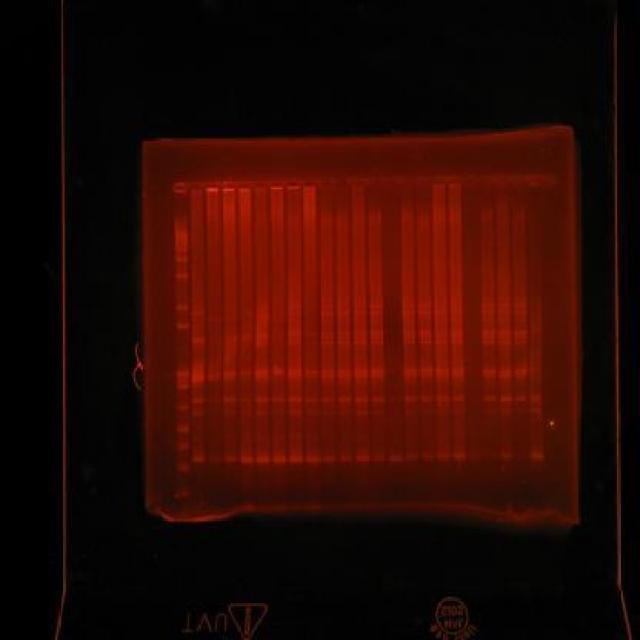B: (528, 451, 544, 462), (354, 454, 372, 463), (288, 454, 304, 464), (305, 454, 321, 464), (371, 452, 387, 462), (322, 454, 338, 463), (256, 454, 270, 464), (338, 454, 353, 463), (529, 394, 542, 404), (272, 456, 288, 464), (370, 397, 386, 405), (388, 454, 404, 462), (420, 453, 436, 461), (416, 302, 432, 310), (238, 409, 254, 417), (271, 408, 287, 416), (500, 452, 514, 461), (192, 455, 206, 463), (224, 455, 238, 463), (240, 456, 254, 464), (306, 432, 320, 440), (370, 409, 384, 417), (528, 415, 542, 423), (404, 452, 418, 460), (404, 394, 418, 402), (514, 394, 528, 402), (452, 452, 468, 459), (436, 452, 452, 459), (436, 408, 450, 416), (420, 408, 434, 416), (468, 452, 483, 459), (529, 407, 542, 415), (484, 452, 498, 459), (254, 336, 270, 342), (254, 397, 270, 403), (336, 340, 352, 346), (336, 330, 352, 336), (353, 374, 369, 380), (353, 368, 369, 374), (352, 330, 368, 336), (368, 303, 384, 309), (368, 310, 384, 316), (370, 374, 386, 380), (480, 308, 496, 314), (480, 302, 496, 308), (481, 368, 497, 374), (482, 396, 498, 402), (482, 408, 498, 414), (513, 330, 529, 336), (403, 410, 419, 416), (418, 367, 434, 373), (432, 302, 448, 308), (321, 410, 336, 416), (337, 374, 352, 380), (338, 410, 353, 416), (354, 410, 369, 416), (481, 334, 496, 340), (434, 330, 449, 336), (253, 369, 270, 374), (192, 336, 206, 342), (192, 346, 206, 352), (208, 398, 222, 404), (208, 456, 222, 462), (222, 410, 236, 416), (256, 410, 270, 416), (238, 374, 252, 380), (239, 334, 253, 340), (239, 338, 253, 344), (272, 397, 286, 403), (288, 410, 302, 416), (288, 396, 302, 402), (288, 368, 302, 374), (287, 341, 301, 347), (287, 330, 301, 336), (288, 310, 302, 316), (288, 304, 302, 310), (304, 408, 318, 414), (304, 330, 318, 336), (304, 334, 318, 340), (303, 310, 317, 316), (224, 344, 238, 350), (320, 374, 334, 380), (320, 340, 334, 346), (320, 330, 334, 336), (336, 310, 350, 316), (338, 397, 352, 403), (353, 310, 367, 316), (352, 303, 366, 309), (370, 368, 384, 374), (370, 340, 384, 346), (528, 327, 542, 333), (528, 366, 542, 372), (403, 368, 417, 374), (402, 330, 416, 336), (402, 304, 416, 310), (499, 408, 513, 414), (499, 396, 513, 402), (498, 340, 512, 346), (498, 302, 512, 308), (514, 368, 528, 374), (514, 340, 528, 346), (513, 310, 527, 316), (513, 302, 527, 308), (449, 308, 463, 314), (452, 408, 466, 414), (436, 394, 450, 400), (420, 396, 434, 402), (434, 334, 448, 340), (303, 369, 319, 374), (336, 335, 352, 340), (352, 335, 368, 340), (368, 330, 384, 335), (433, 310, 449, 315), (192, 411, 205, 417), (191, 398, 204, 404), (337, 369, 352, 374), (481, 329, 496, 334), (417, 310, 432, 315), (418, 339, 433, 344), (192, 379, 206, 384), (192, 375, 206, 380), (208, 340, 222, 345), (222, 375, 236, 380), (224, 335, 238, 340), (254, 342, 268, 347), (238, 370, 252, 375), (239, 343, 253, 348), (224, 315, 238, 320), (208, 316, 222, 321), (272, 370, 286, 375), (287, 336, 301, 341), (304, 305, 318, 310), (320, 369, 334, 374), (320, 335, 334, 340), (320, 305, 334, 310), (353, 340, 367, 345), (370, 335, 384, 340), (482, 340, 496, 345), (402, 340, 416, 345), (402, 335, 416, 340), (498, 369, 512, 374), (498, 335, 512, 340), (498, 330, 512, 335), (498, 309, 512, 314), (514, 373, 528, 378), (514, 335, 528, 340), (452, 395, 466, 400), (450, 373, 464, 378), (450, 340, 464, 345), (450, 335, 464, 340), (450, 330, 464, 335), (436, 373, 450, 378), (434, 340, 448, 345), (418, 329, 432, 334), (253, 374, 270, 378), (192, 310, 205, 315), (225, 339, 238, 344), (451, 303, 464, 308), (288, 434, 304, 438), (353, 398, 369, 402), (481, 374, 497, 378), (418, 374, 434, 378), (434, 378, 450, 382), (401, 312, 416, 316), (192, 342, 206, 346), (222, 398, 236, 402), (222, 372, 236, 376), (256, 314, 270, 318), (256, 308, 270, 312), (238, 398, 252, 402), (288, 374, 302, 378), (304, 398, 318, 402), (304, 374, 318, 378), (322, 398, 336, 402), (320, 312, 334, 316), (336, 304, 350, 308), (403, 374, 417, 378), (498, 374, 512, 378), (450, 368, 464, 372), (436, 368, 450, 372), (418, 334, 432, 338), (192, 324, 205, 328), (207, 374, 221, 377), (256, 334, 270, 337), (191, 317, 204, 320), (256, 322, 270, 324), (208, 378, 220, 380)
L: (169, 170, 563, 196)
M: (172, 203, 194, 503)
P: (176, 425, 190, 433), (177, 490, 190, 498), (176, 322, 189, 330), (174, 255, 188, 262), (174, 273, 188, 279), (174, 236, 188, 242), (177, 466, 190, 472), (176, 384, 189, 390), (175, 246, 188, 252), (175, 241, 188, 247), (174, 306, 188, 311), (177, 445, 190, 450), (176, 405, 189, 410), (177, 372, 190, 377), (174, 232, 188, 236)
Pc: (524, 173, 542, 187), (544, 173, 560, 187), (510, 173, 526, 187), (494, 174, 510, 188), (462, 174, 478, 188), (478, 174, 493, 188), (414, 176, 430, 189), (366, 176, 382, 189), (301, 176, 317, 189), (318, 176, 333, 189), (220, 180, 236, 192), (206, 180, 220, 193), (269, 179, 283, 192), (286, 178, 300, 191), (448, 175, 462, 188), (172, 182, 188, 193), (431, 177, 447, 188), (398, 177, 414, 188), (351, 176, 364, 189), (237, 180, 251, 192), (254, 180, 268, 192), (334, 178, 348, 190), (189, 182, 203, 193), (383, 178, 397, 188)
